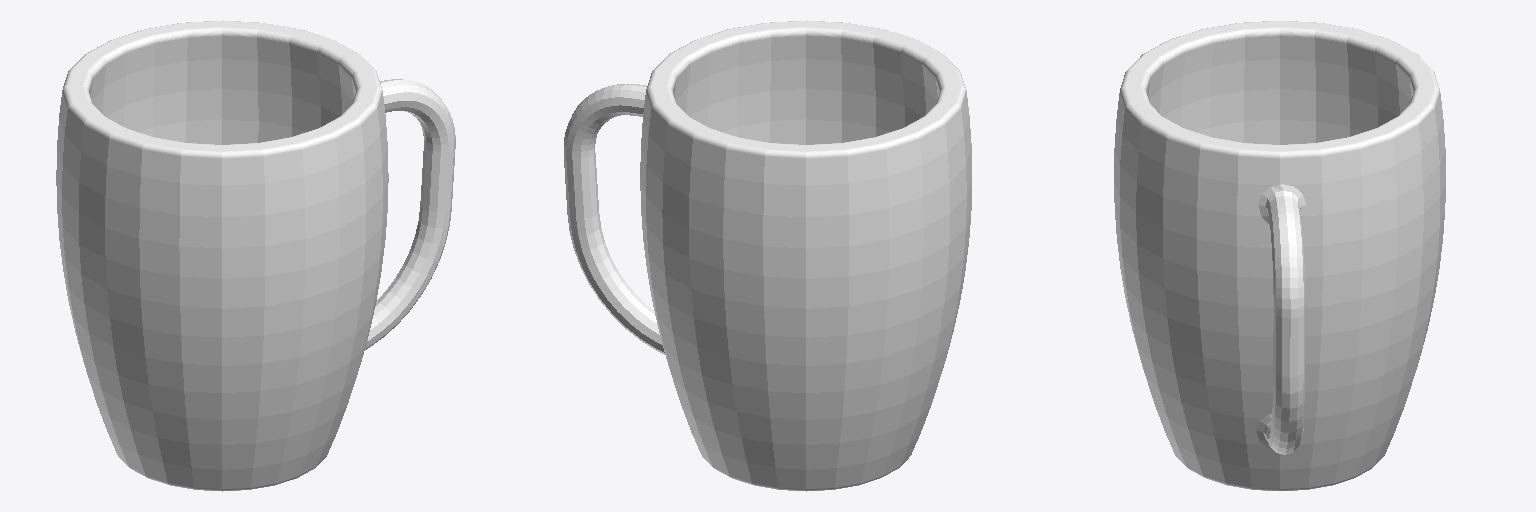
The robot description file, URDF, robot "mug3.urdf":
<?xml version="1.0" ?>
<robot name="mug3.urdf">
  <link name="baseLink">
    <contact>
    	<friction_anchor/>
    	<lateral_friction value="0.5"/>
        <rolling_friction value="0.005"/>
        <spinning_friction value="0.005"/>
    </contact>
    <inertial>
      <origin rpy="0 0 0" xyz="0 0 0"/>
      <mass value="0.3"/>
      <inertia ixx="0" ixy="0" ixz="0" iyy="0" iyz="0" izz="0"/>
    </inertial>
    <visual>
      <origin rpy="0 0 0" xyz="0 0 0"/>
      <geometry>
	  <mesh filename="mug3.stl" scale="1 1 1"/>
      </geometry>
       <material name="white">
          <color rgba="1 1 1 1"/>
      </material>
    </visual>
    <collision>
      <origin rpy="0 0 0" xyz="0 0 0"/>
      <geometry>
	 <mesh filename="mug3.stl" scale="1 1 1"/>
      </geometry>
    </collision>
  </link>
</robot>

--- Facts derived from the render (not from the file) ---
Views: 3 orthographic renders of the robot side by side, from view 1: azimuth 30°, elevation 25°; view 2: azimuth 150°, elevation 25°; view 3: azimuth 270°, elevation 25°.
Robot: mug3.urdf — 1 links, 0 joints (none); root link baseLink; default pose: all joints at 0.
Links seen in each view (by area): view 1: baseLink; view 2: baseLink; view 3: baseLink.
Link boxes in pixels (bbox=[...]): baseLink: bbox=[56, 20, 455, 491]; baseLink: bbox=[564, 20, 971, 491]; baseLink: bbox=[1114, 21, 1445, 490].
Bounding box of the posed robot: 1.65 × 1.25 × 1.5 m (x, y, z).
Meshes: 1 distinct files referenced, 1 mesh visuals loaded (1 binary STL).